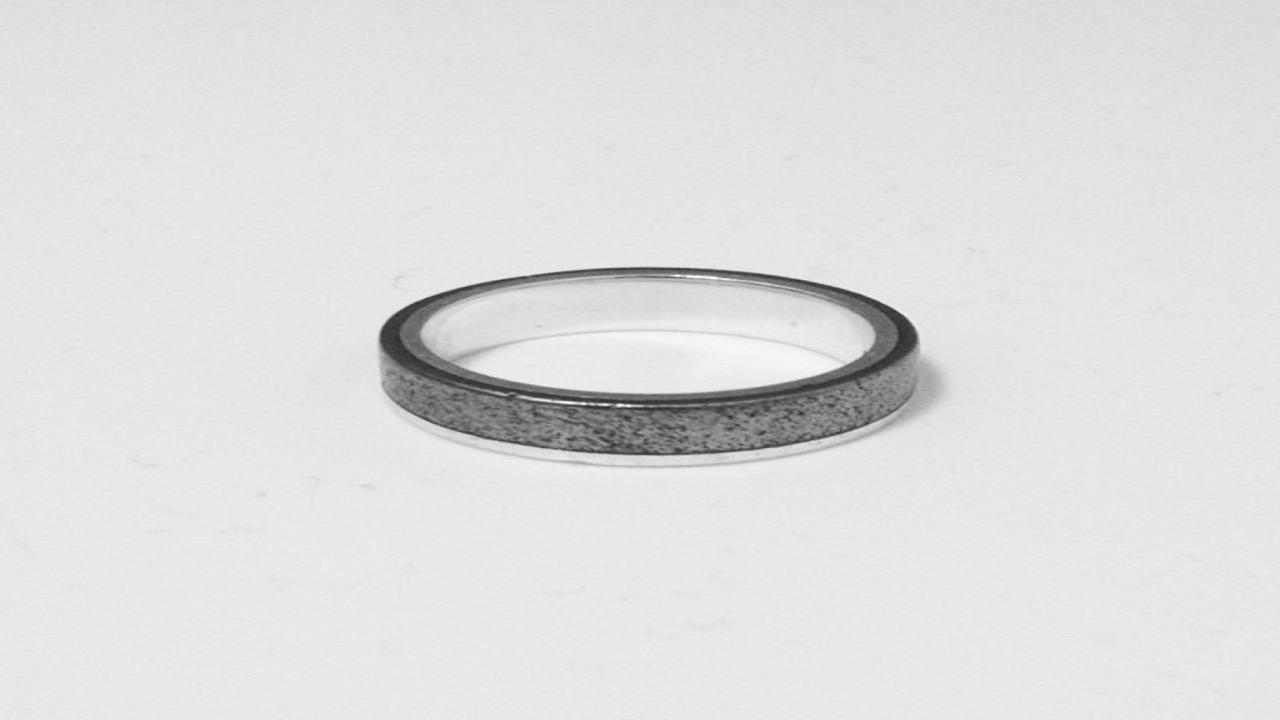ring: (367, 262, 939, 469)
